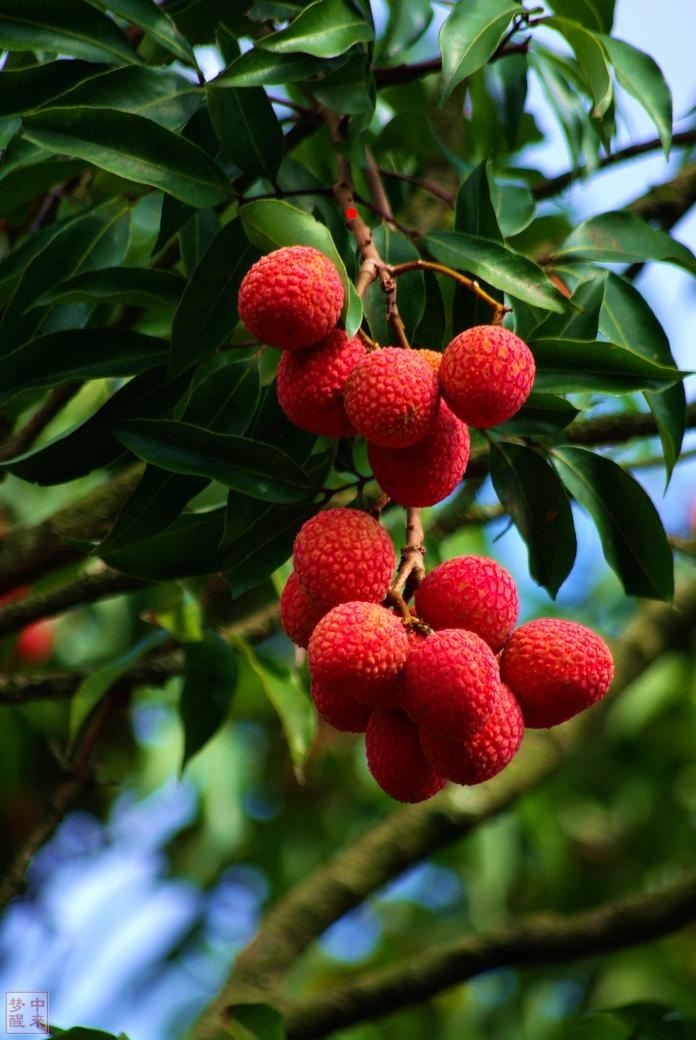litchi: (276, 502, 618, 807), (235, 240, 539, 512)
stem: (329, 143, 402, 278)
